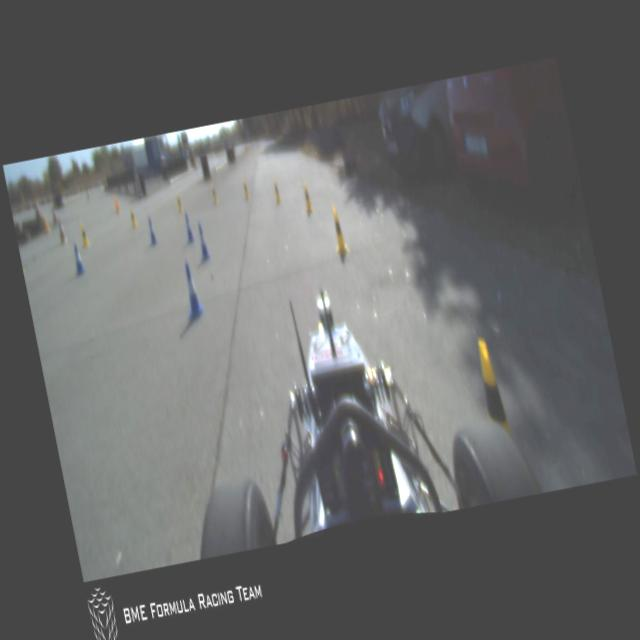blue_cone: (178, 261, 205, 324), (193, 222, 210, 263), (69, 240, 86, 278), (144, 216, 158, 247), (182, 212, 195, 244)
unknown_cone: (56, 217, 67, 244)
yellow_cone: (471, 334, 516, 462), (328, 206, 348, 255), (302, 182, 314, 215), (272, 178, 282, 203), (79, 224, 89, 248), (128, 208, 137, 228), (242, 178, 250, 200), (175, 194, 183, 212), (211, 186, 218, 204)
